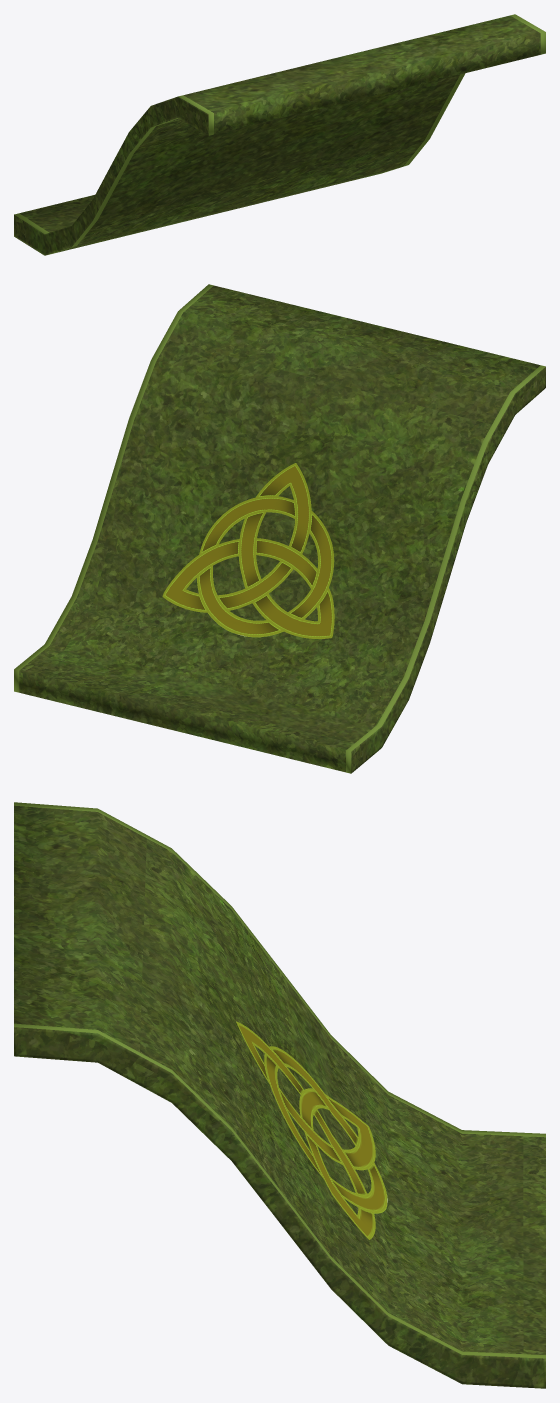
The model's file is mountain_slope2.gltf.
The picture shows the model from 3 angles, top to bottom: view 1: azimuth 30°, elevation 25°; view 2: azimuth 150°, elevation 25°; view 3: azimuth 270°, elevation 25°; orthographic projection. The views are drawn at different scales.
Parts seen in each view (by area): view 1: mountain_slope2_glb; view 2: mountain_slope2_glb; view 3: mountain_slope2_glb.
Part boxes in pixels (x1=…): mountain_slope2_glb: x1=14, y1=14, x2=545, y2=255; mountain_slope2_glb: x1=14, y1=284, x2=545, y2=773; mountain_slope2_glb: x1=14, y1=802, x2=545, y2=1388.
Size of what is drawn, in the model's own units: 4 by 3 by 4.
2 materials, 2 textured.
